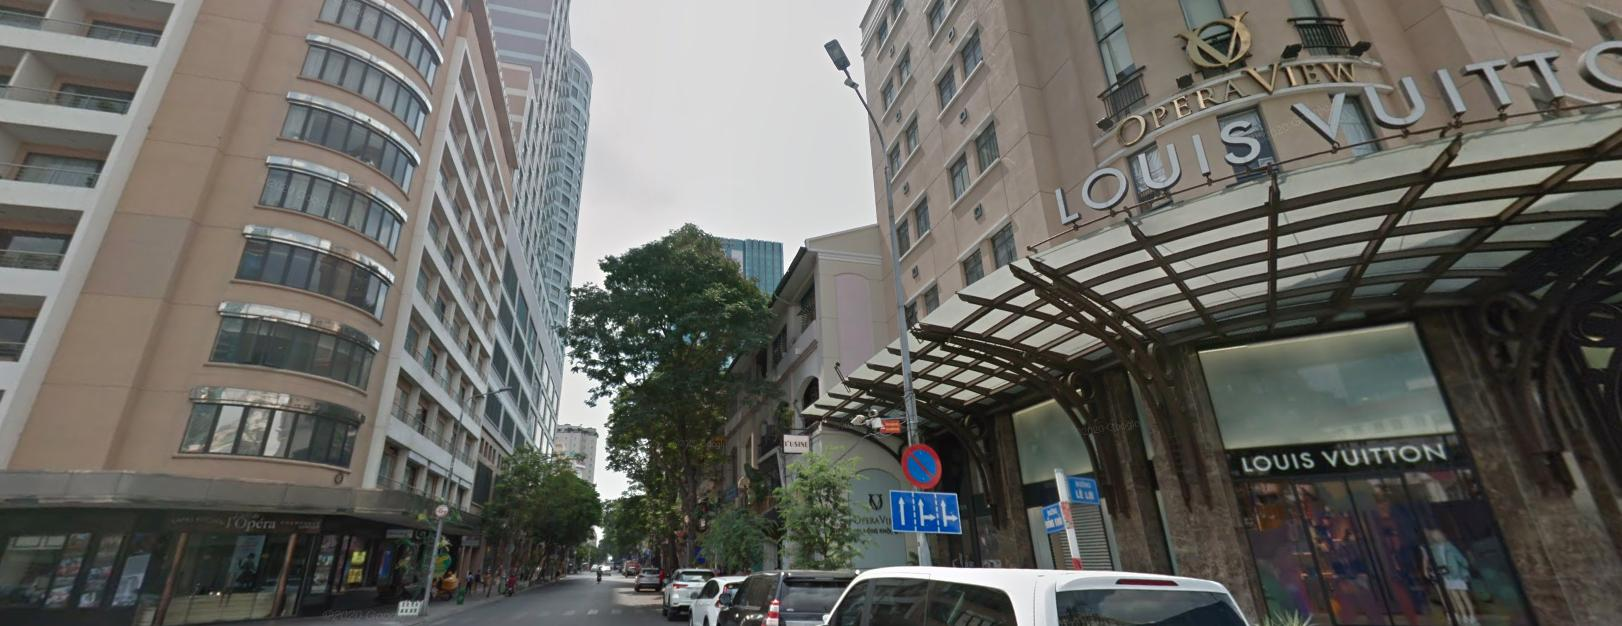Cam dung va do: (901, 442, 941, 488)
